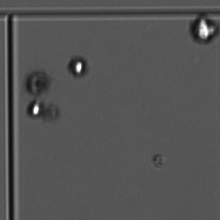Dead Cell: (22, 66, 57, 98)
Living Cell: (185, 11, 220, 48), (21, 96, 55, 123), (63, 53, 92, 80)
